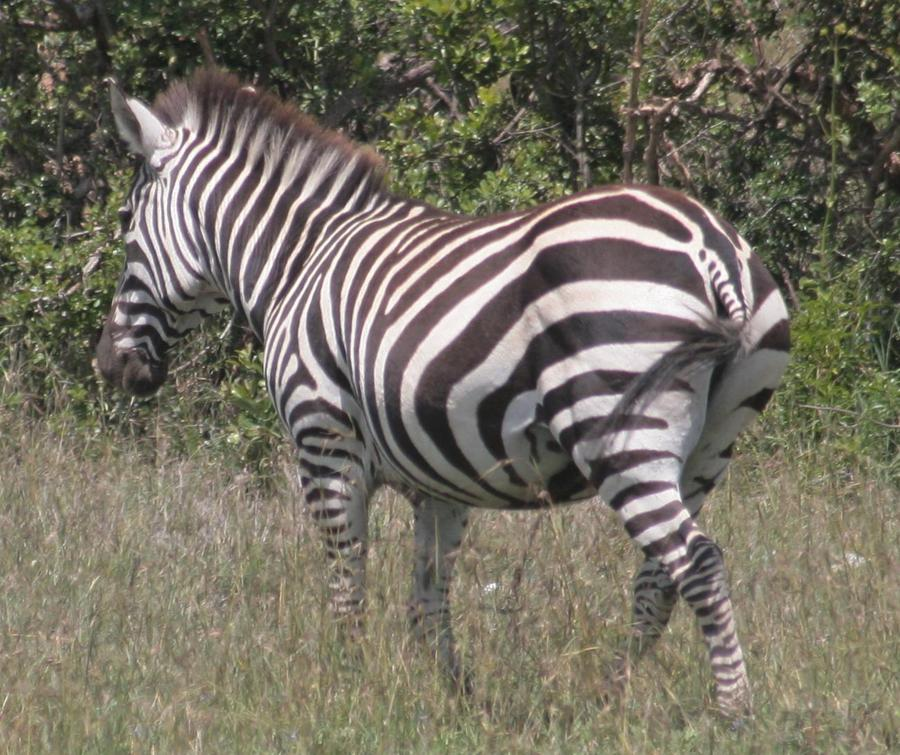zebra_plains: (224, 168, 710, 540)
